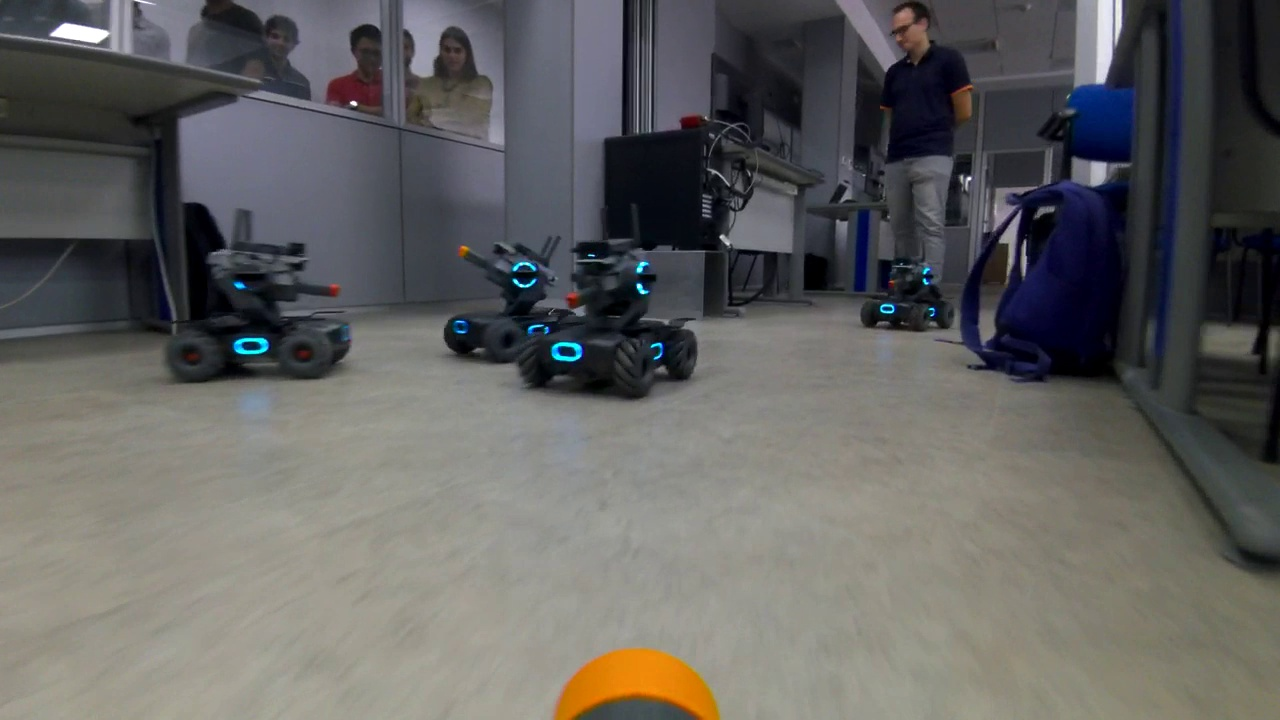robot: (502, 211, 707, 399), (162, 202, 364, 386), (436, 228, 585, 365), (857, 243, 953, 339)
